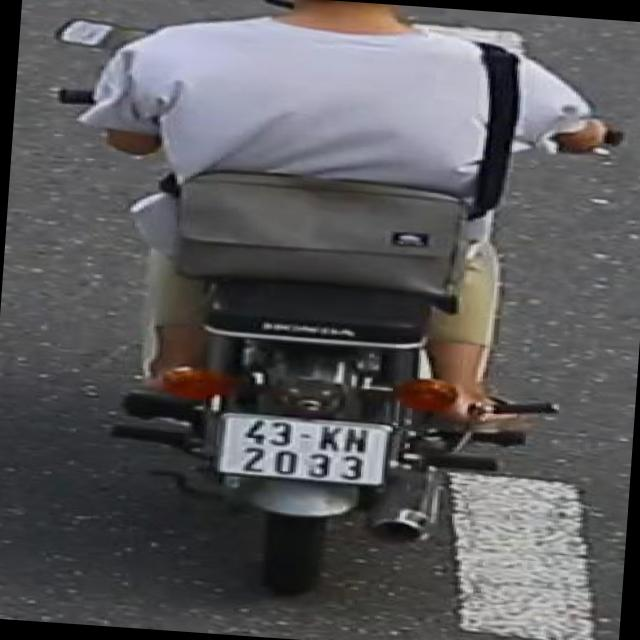LP: (208, 408, 398, 490)
